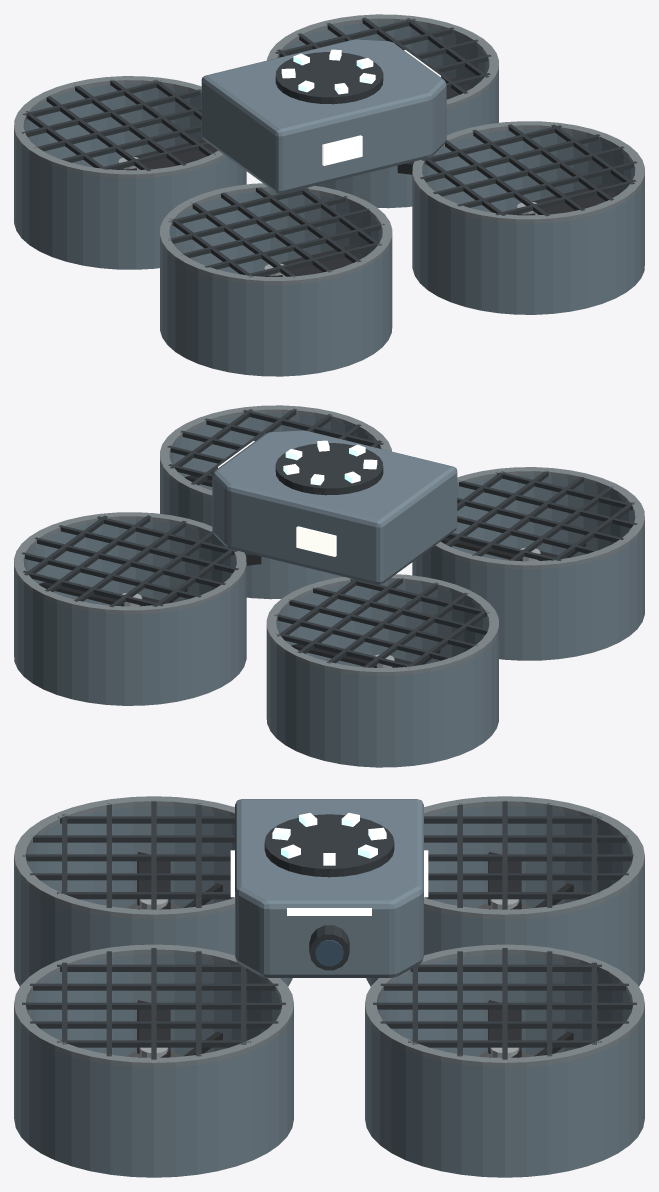
File: drone-2761-spec2027.glb
The picture shows the model from 3 angles, top to bottom: view 1: azimuth 30°, elevation 25°; view 2: azimuth 150°, elevation 25°; view 3: azimuth 270°, elevation 25°; orthographic projection. The views are drawn at different scales.
Visible parts, largest first — view 1: DroneBody_TeamPrimaryShell, DroneBody_RobotMatteGraphite, DroneBody_RobotMatteAluminum, DroneBody_TeamGlow, DroneBody_StatusWhite, Rotor_2_CarbonPlate, Rotor_0_CarbonPlate, Rotor_1_CarbonPlate; view 2: DroneBody_TeamPrimaryShell, DroneBody_RobotMatteGraphite, DroneBody_RobotMatteAluminum, DroneBody_TeamGlow, DroneBody_StatusWhite, Rotor_3_CarbonPlate; view 3: DroneBody_TeamPrimaryShell, DroneBody_RobotMatteGraphite, DroneBody_RobotMatteAluminum, DroneBody_TeamGlow, DroneBody_StatusWhite, DroneBody_CarbonPlate, Rotor_3_CarbonPlate, Rotor_2_CarbonPlate, Rotor_1_CarbonPlate, Rotor_0_CarbonPlate, FpvLens.
Boxes of the visible parts, <box> form: DroneBody_TeamPrimaryShell: <box>14,22,644,376</box>; DroneBody_RobotMatteGraphite: <box>21,17,637,277</box>; DroneBody_RobotMatteAluminum: <box>14,14,644,284</box>; DroneBody_TeamGlow: <box>281,49,375,94</box>; DroneBody_StatusWhite: <box>322,50,440,165</box>; Rotor_2_CarbonPlate: <box>516,183,616,215</box>; Rotor_0_CarbonPlate: <box>263,245,364,276</box>; Rotor_1_CarbonPlate: <box>117,139,217,170</box>; DroneBody_TeamPrimaryShell: <box>14,413,644,767</box>; DroneBody_RobotMatteGraphite: <box>21,408,637,667</box>; DroneBody_RobotMatteAluminum: <box>14,405,644,675</box>; DroneBody_TeamGlow: <box>283,440,377,485</box>; DroneBody_StatusWhite: <box>218,441,336,556</box>; Rotor_3_CarbonPlate: <box>39,582,169,606</box>; DroneBody_TeamPrimaryShell: <box>14,799,644,1177</box>; DroneBody_RobotMatteGraphite: <box>22,800,636,1059</box>; DroneBody_RobotMatteAluminum: <box>14,796,644,1067</box>; DroneBody_TeamGlow: <box>272,813,386,865</box>; DroneBody_StatusWhite: <box>230,850,428,915</box>; DroneBody_CarbonPlate: <box>183,883,573,1056</box>; Rotor_3_CarbonPlate: <box>488,1000,521,1057</box>; Rotor_2_CarbonPlate: <box>137,1000,170,1057</box>; Rotor_1_CarbonPlate: <box>488,852,521,909</box>; Rotor_0_CarbonPlate: <box>137,852,170,909</box>; FpvLens: <box>315,940,343,966</box>.
Size of the model in its own units: 0.141 by 0.0515 by 0.141.
